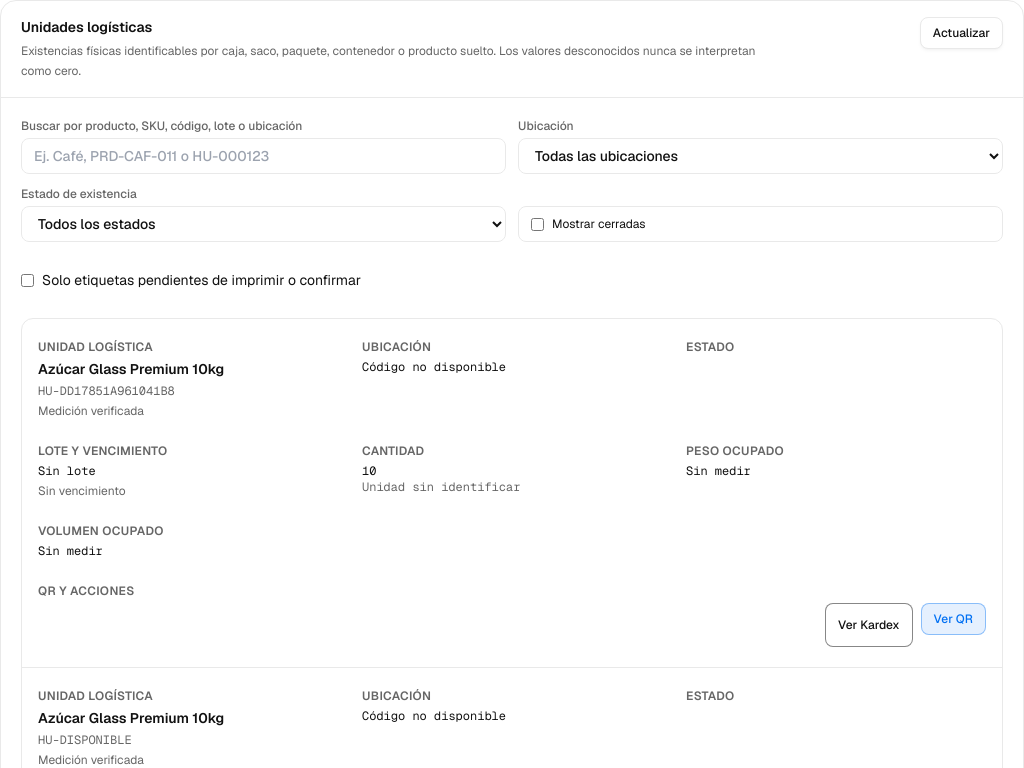
Test: label dialog and pending-label queue › filters label work independently of available inventory and restores the full list
Expected: the text "HU-DISPONIBLE" is shown, [38, 732, 132, 748]
Click the checkbox labelled "Solo etiquetas pendientes de imprimir o confirmar" at (28, 280), box [21, 274, 34, 286]
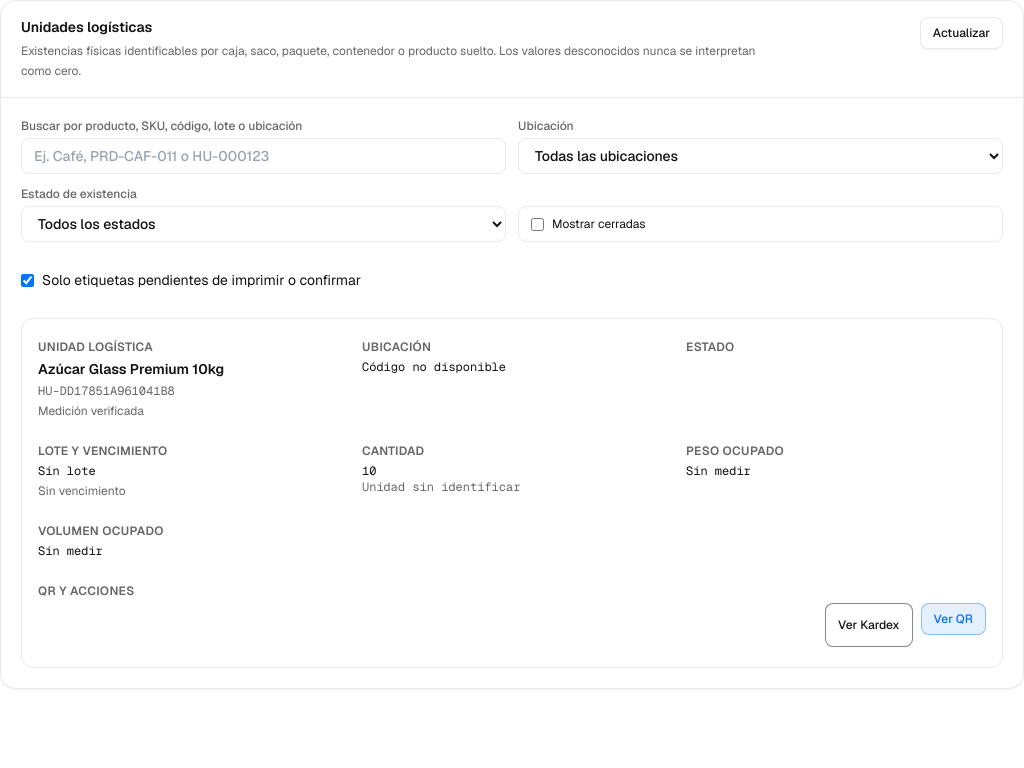
Expected: the text "HU-DD17851A961041B8" is shown, [38, 383, 175, 399]
Now the text "HU-DISPONIBLE" is gone
Click the checkbox labelled "Solo etiquetas pendientes de imprimir o confirmar" at (28, 280), box [21, 274, 34, 286]
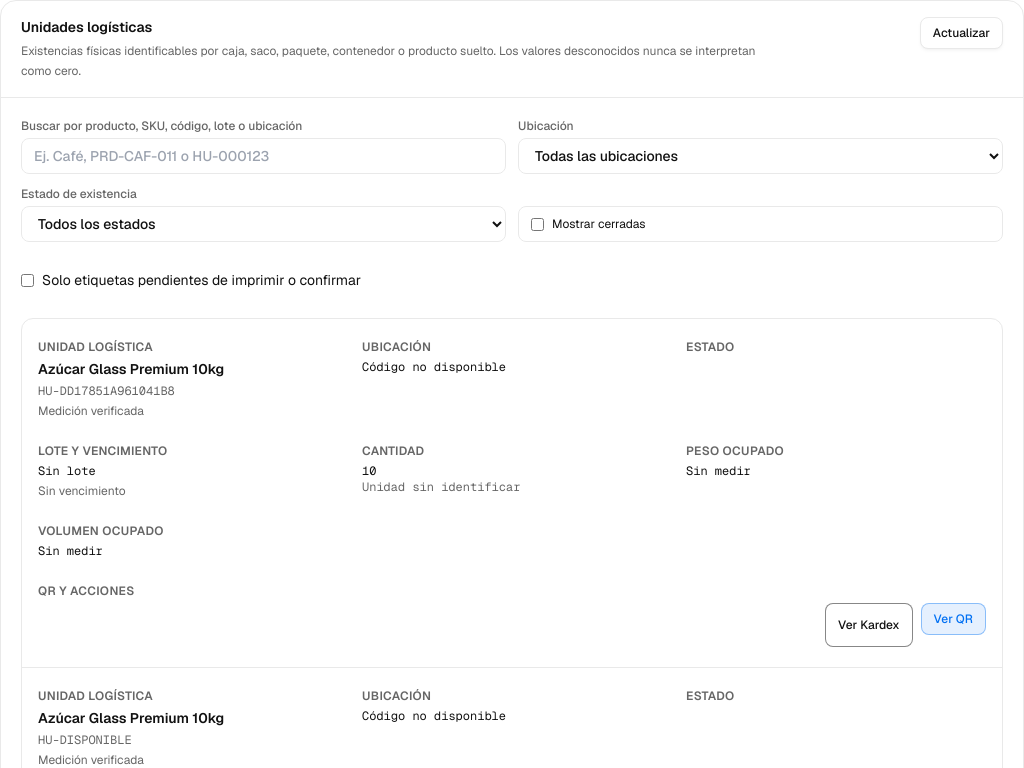
Now the text "HU-DISPONIBLE" is shown, box [38, 732, 132, 748]
